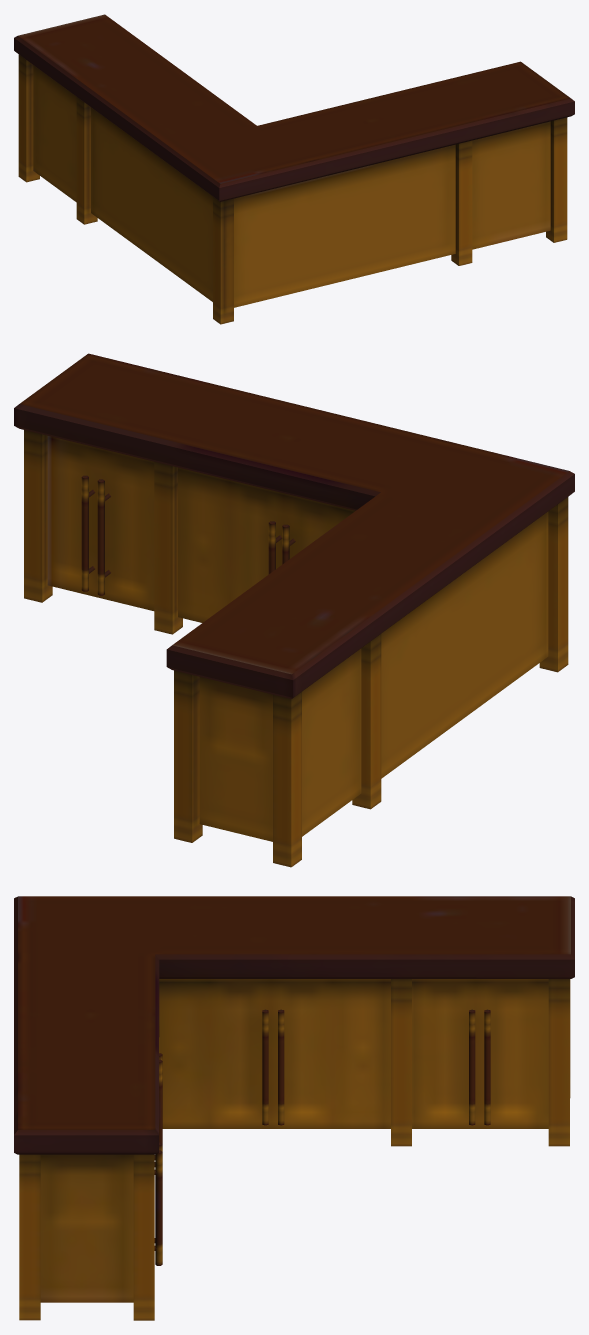
File: Kitchen_Cabinet_01_clear.gltf
The picture shows the model from 3 angles, top to bottom: view 1: azimuth 30°, elevation 25°; view 2: azimuth 150°, elevation 25°; view 3: azimuth 270°, elevation 25°; orthographic projection. The views are drawn at different scales.
Parts seen in each view (by area): view 1: Kitchen_Cabinet_02; view 2: Kitchen_Cabinet_02; view 3: Kitchen_Cabinet_02.
Part boxes in pixels (x1,y1,x2,y2): Kitchen_Cabinet_02: (14,14,574,324); Kitchen_Cabinet_02: (14,353,574,867); Kitchen_Cabinet_02: (14,896,574,1320).
Bounding box in the file's own units: 86.01 × 32.59 × 86.05.
Materials: 1 (1 with a texture image).
